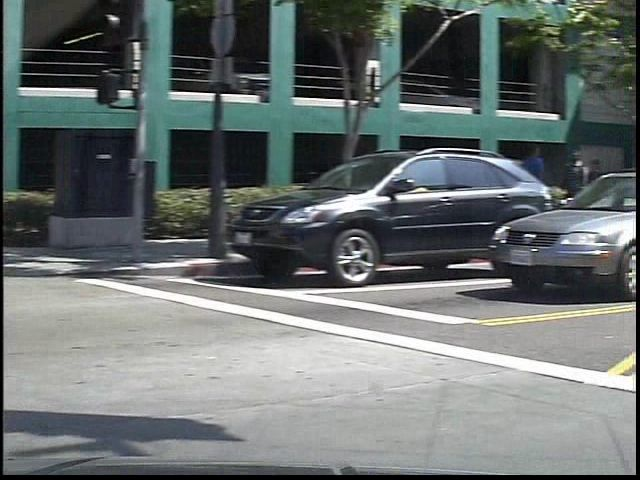person: (532, 143, 569, 241)
